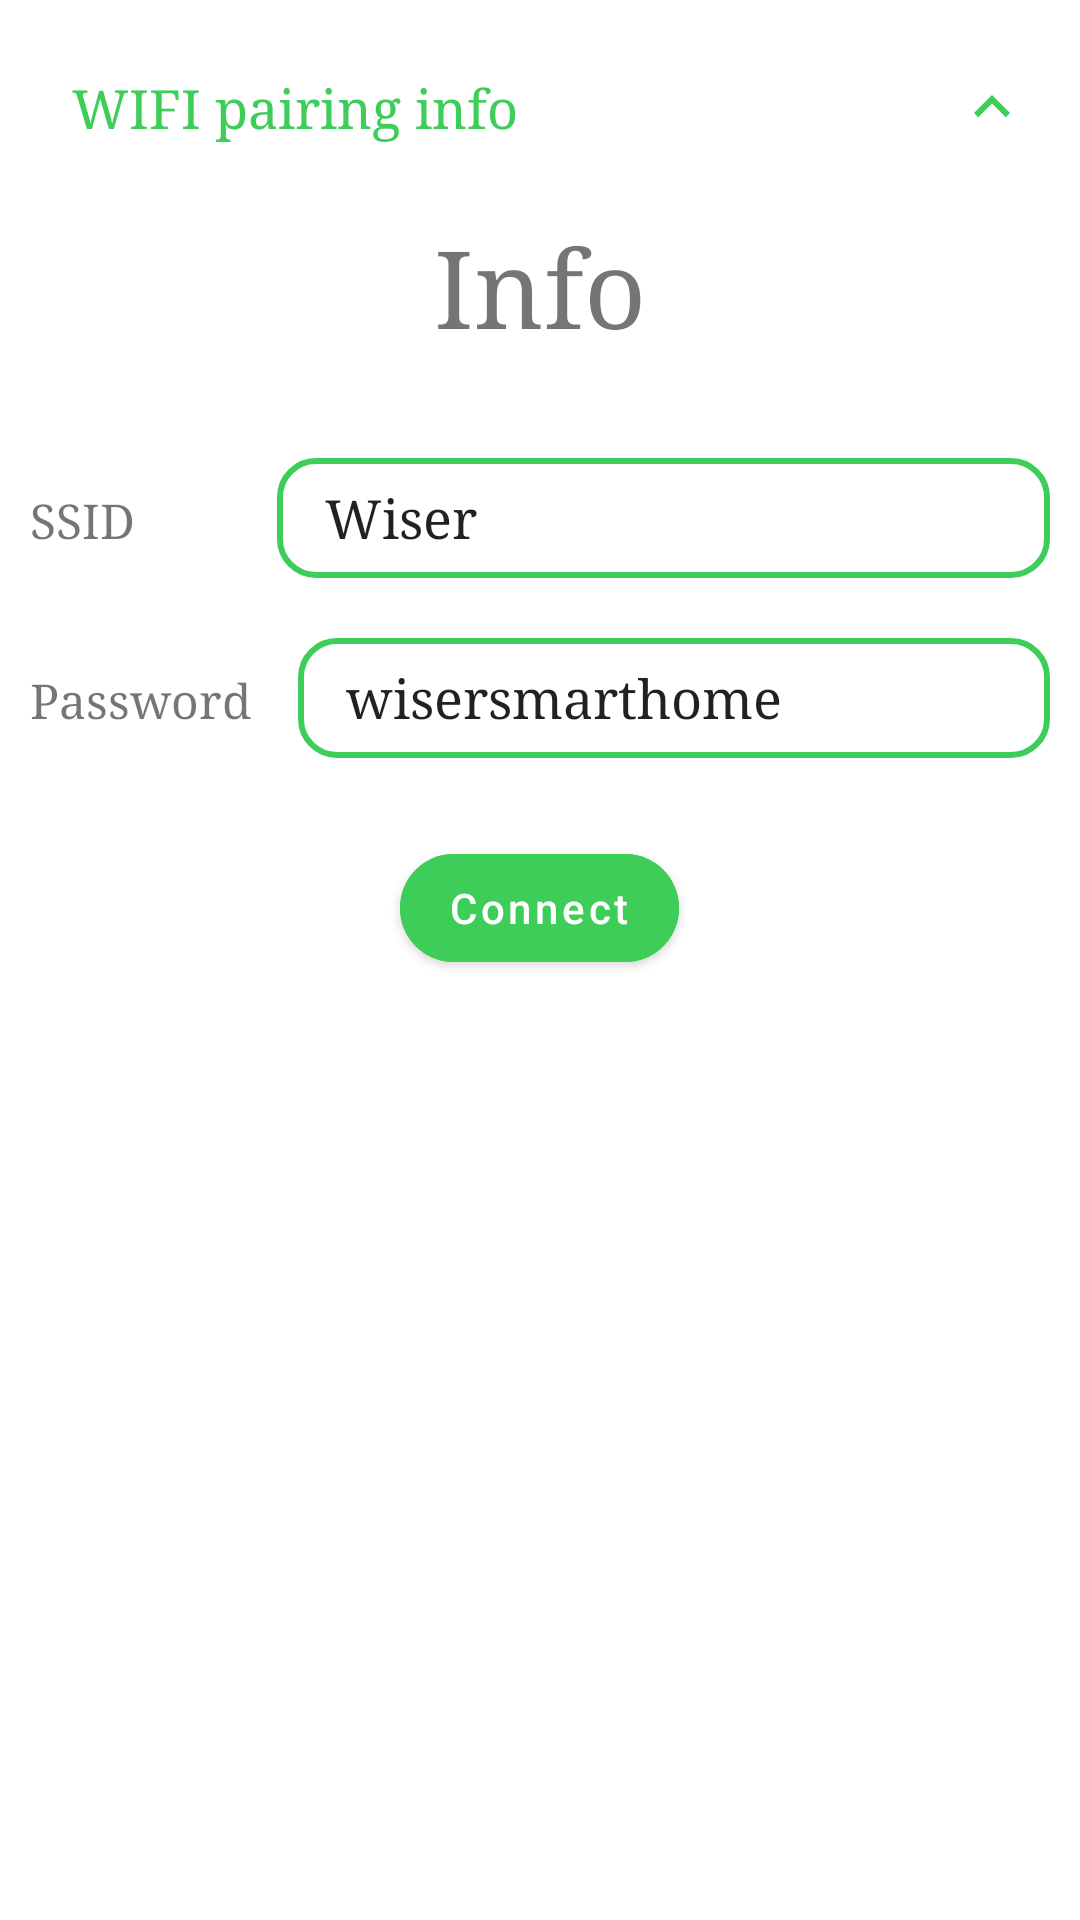

Icons on this 1080×1920 Android screen, each with its box as (x1, y1, x2, y2):
keyboard arrow up: (974, 95, 1010, 117)
